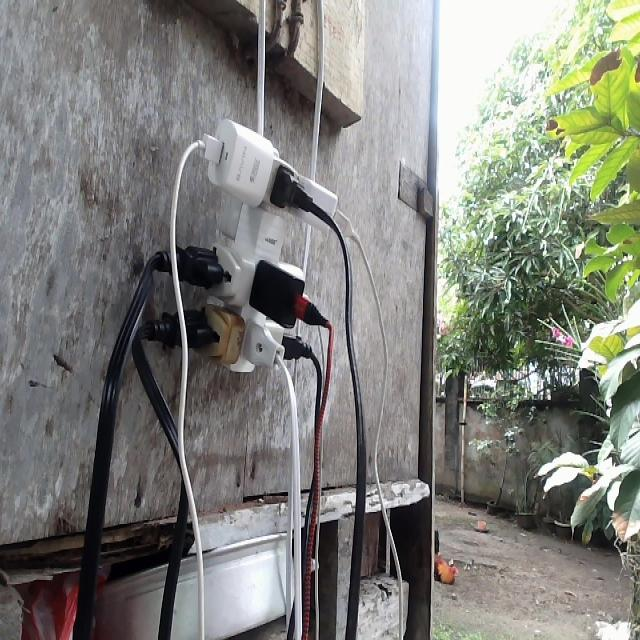-: (153, 115, 339, 376)
